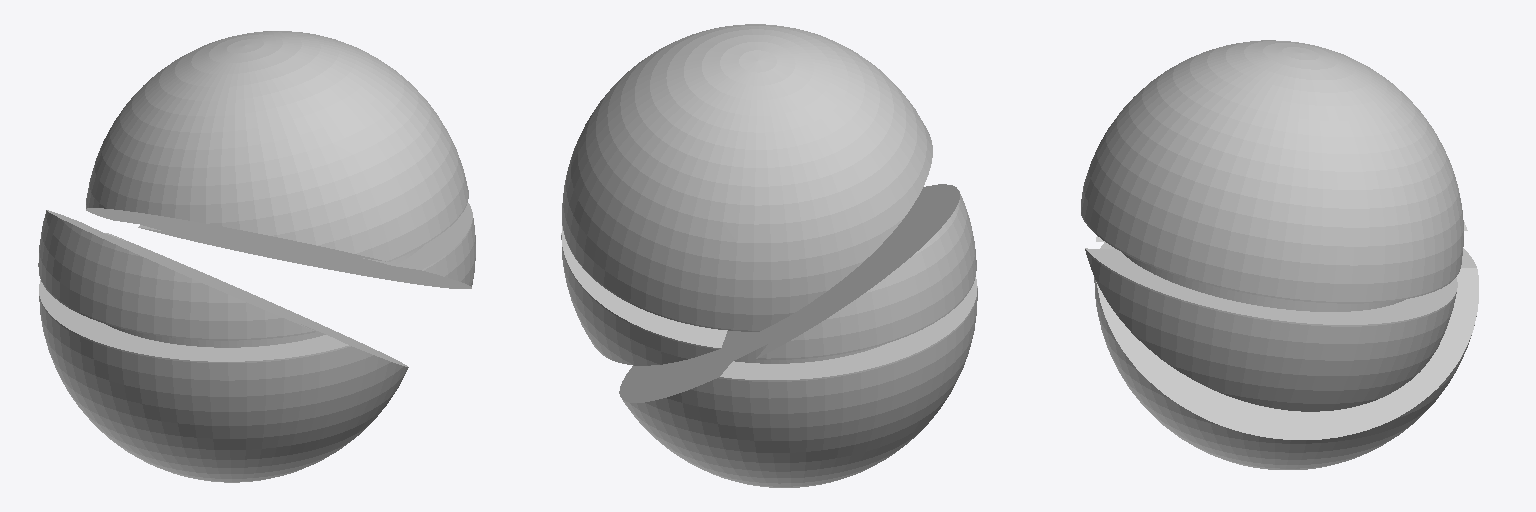
The model's file is Drone166_000004.obj.
The picture shows the model from 3 angles: view 1: azimuth 30°, elevation 25°; view 2: azimuth 150°, elevation 25°; view 3: azimuth 270°, elevation 25°; orthographic projection.
Parts seen in each view (by area): view 1: Sphere.001, Sphere.000_Sphere.002; view 2: Sphere.001, Sphere.000_Sphere.002; view 3: Sphere.001, Sphere.000_Sphere.002.
Part boxes in pixels (bbox=[...]): Sphere.001: bbox=[86, 31, 475, 288]; Sphere.000_Sphere.002: bbox=[38, 210, 408, 482]; Sphere.001: bbox=[561, 24, 932, 365]; Sphere.000_Sphere.002: bbox=[619, 184, 977, 487]; Sphere.001: bbox=[1081, 40, 1463, 411]; Sphere.000_Sphere.002: bbox=[1094, 222, 1478, 469].
Bounding box in the file's own units: 2.24 × 2.35 × 2.06.